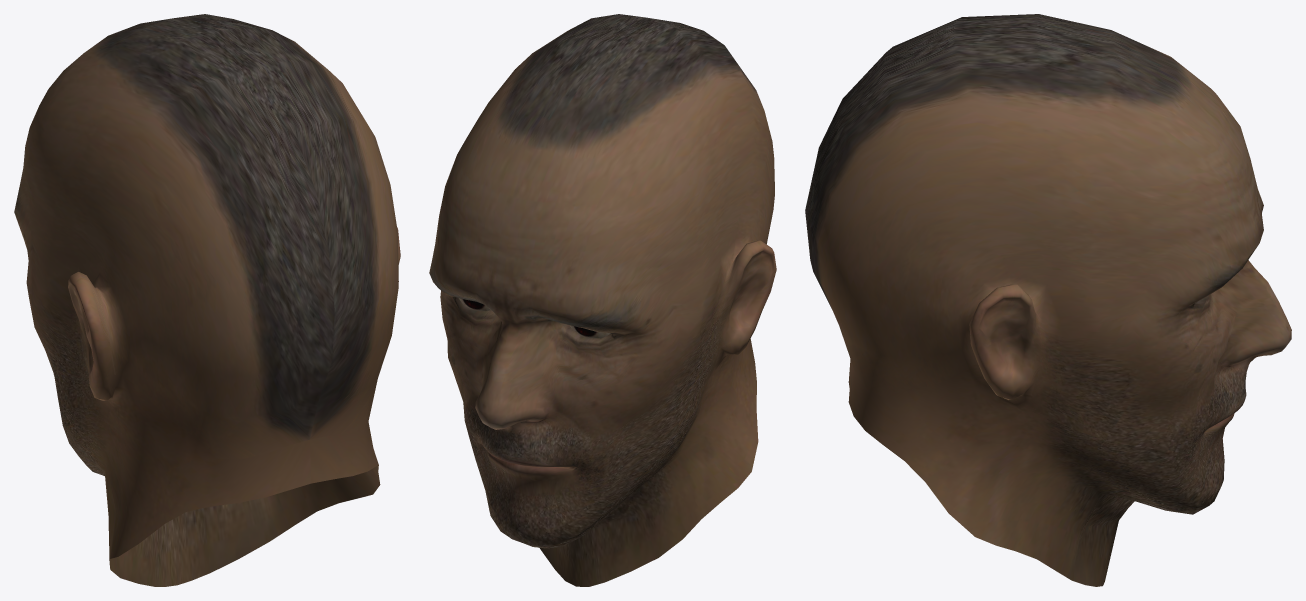
The model's file is G3_Head_Slave_Myrtana_Animated_01_S21.obj.
The picture shows the model from 3 angles, left to right: view 1: azimuth 30°, elevation 25°; view 2: azimuth 150°, elevation 25°; view 3: azimuth 270°, elevation 25°; orthographic projection. The views are drawn at different scales.
Visible parts, largest first — view 1: G3_Animation_Head_Slave_Main_01; view 2: G3_Animation_Head_Slave_Main_01; view 3: G3_Animation_Head_Slave_Main_01.
Part boxes in pixels (x1,y1,x2,y2): G3_Animation_Head_Slave_Main_01: (14,14,400,586); G3_Animation_Head_Slave_Main_01: (429,14,776,586); G3_Animation_Head_Slave_Main_01: (805,14,1291,586).
Bounding box in the file's own units: 0.1504 × 0.2644 × 0.2108.
